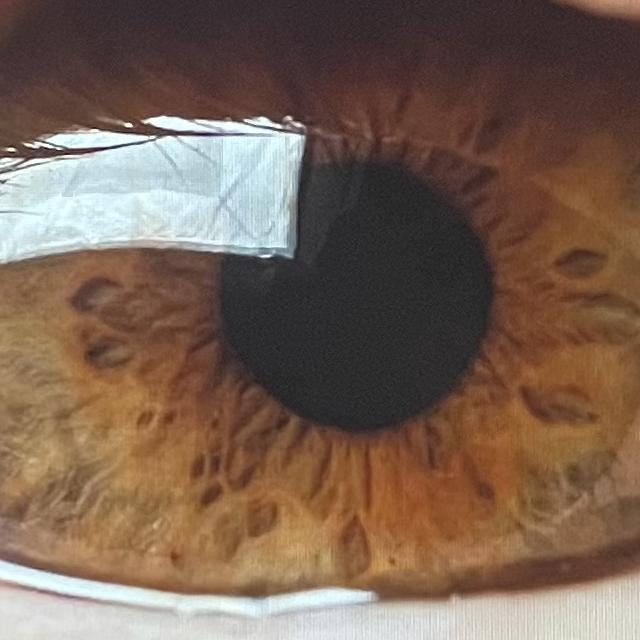eye: (0, 0, 640, 633)
iris: (0, 0, 640, 608)
